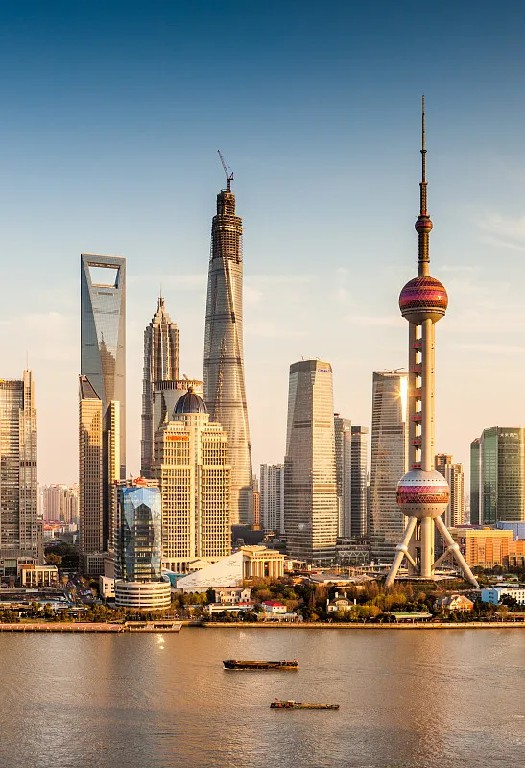Oriental: (384, 96, 480, 589)
